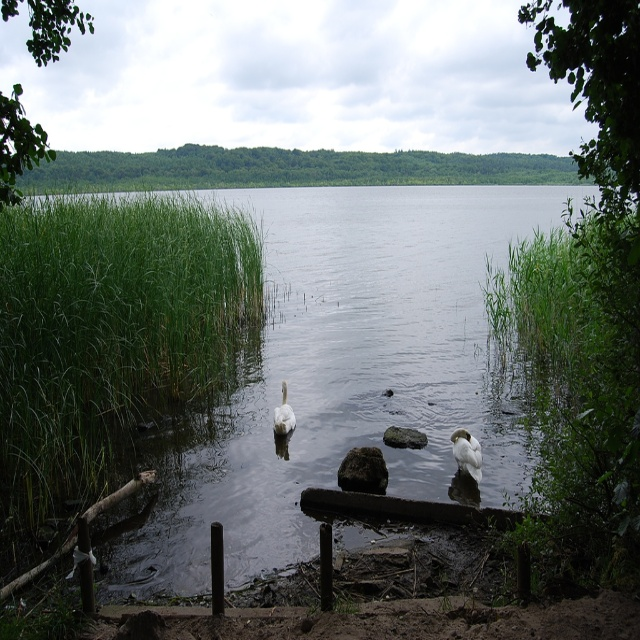Duck: (448, 422, 488, 486), (273, 382, 295, 432)
